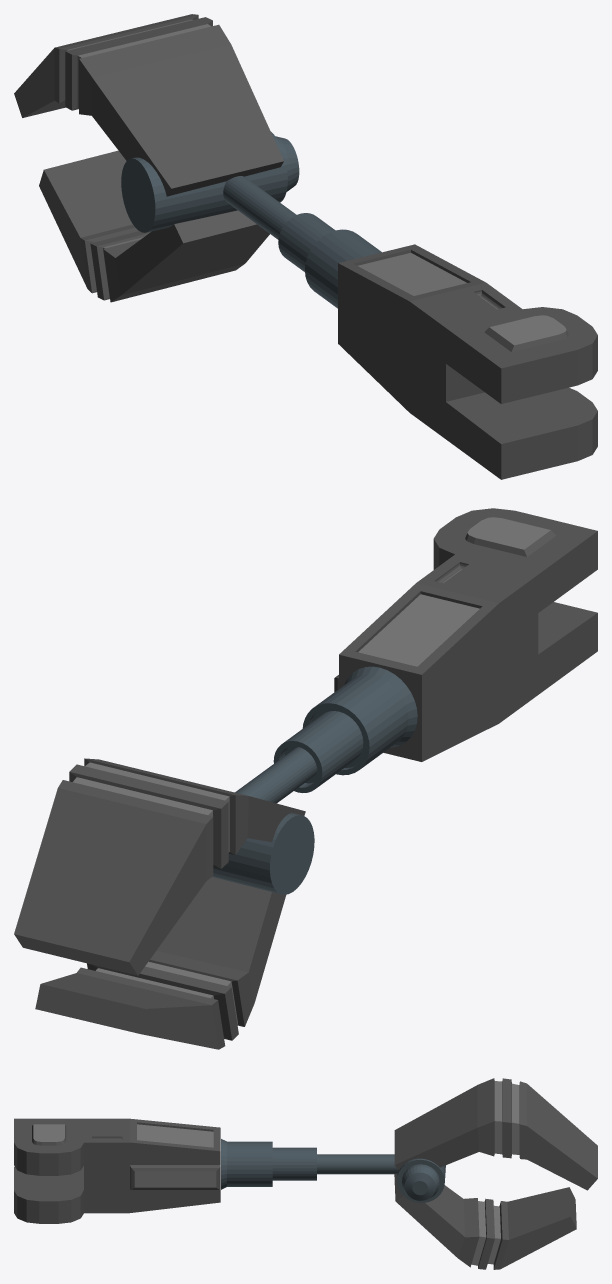
Rendered from RobotArm.fbx.
3 renders of one model, top to bottom at view 1: azimuth 30°, elevation 25°; view 2: azimuth 150°, elevation 25°; view 3: azimuth 270°, elevation 25°, orthographic. The views are drawn at different scales.
Parts seen in each view (by area): view 1: Arms.001; view 2: Arms.001; view 3: Arms.001.
Part boxes in pixels (bbox=[...]): Arms.001: bbox=[14, 14, 597, 479]; Arms.001: bbox=[14, 508, 597, 1049]; Arms.001: bbox=[14, 1078, 597, 1269].
Size of the model in its own units: 69.49 by 101 by 355.
